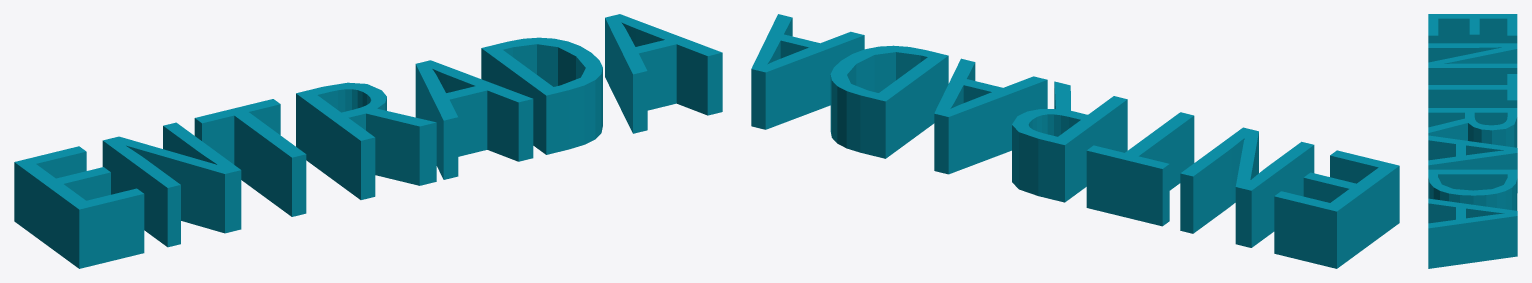
Rendered from entrada-texto.glb.
3 renders of one model, left to right at view 1: azimuth 30°, elevation 25°; view 2: azimuth 150°, elevation 25°; view 3: azimuth 270°, elevation 25°, orthographic. The views are drawn at different scales.
Parts seen in each view (by area): view 1: Mesh_Mesh_head_geo.001_lambert2SG.001; view 2: Mesh_Mesh_head_geo.001_lambert2SG.001; view 3: Mesh_Mesh_head_geo.001_lambert2SG.001.
Part boxes in pixels (x1=…): Mesh_Mesh_head_geo.001_lambert2SG.001: x1=14, y1=14, x2=722, y2=268; Mesh_Mesh_head_geo.001_lambert2SG.001: x1=751, y1=14, x2=1399, y2=268; Mesh_Mesh_head_geo.001_lambert2SG.001: x1=1428, y1=14, x2=1517, y2=268.
Size of the model in its own units: 113 by 10 by 19.92.
